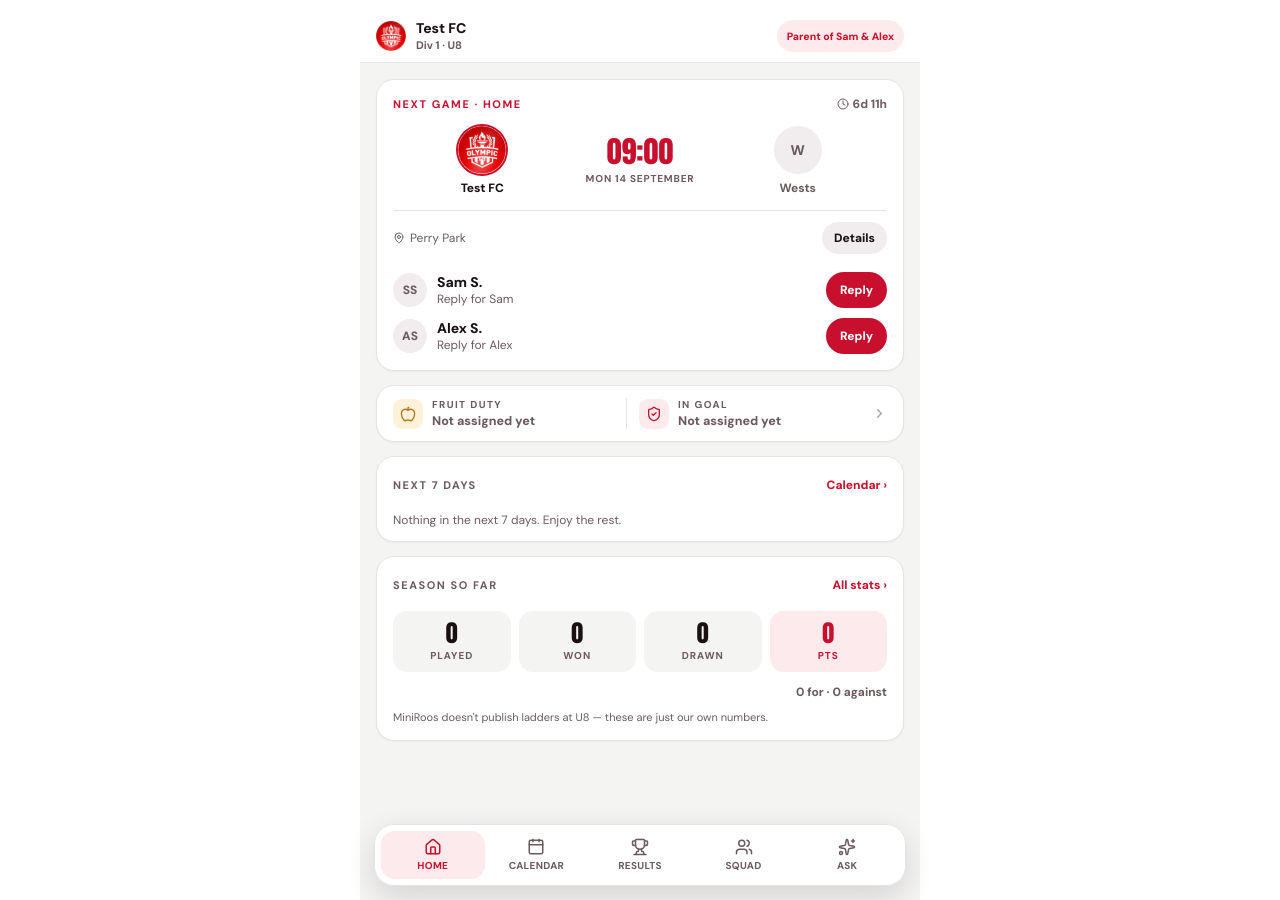
Test case: App — account-mode roles (/api/me) › a coach-parent wearing the parent hat gets the parent experience: no coach mode, In/Out for both of their kids only
This screenshot has width=1280, height=900.
Click the button with aria-label "Viewing as": (840, 36) left=777, top=20, right=904, bottom=52
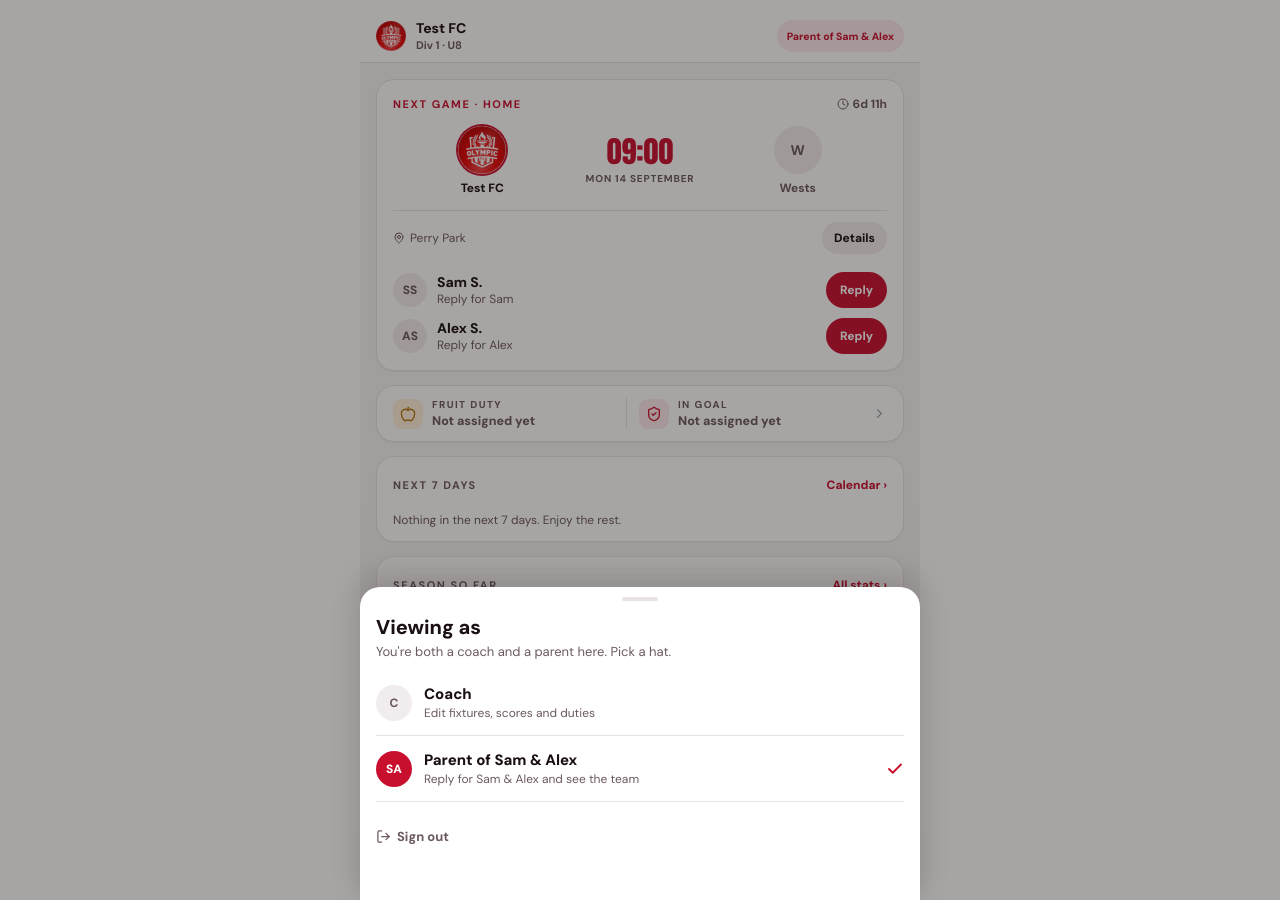
Check: the text with class "disc" reads "SA", box left=386, top=760, right=402, bottom=776
Click the element that starts with "Viewing as": (640, 450) left=0, top=0, right=1279, bottom=899
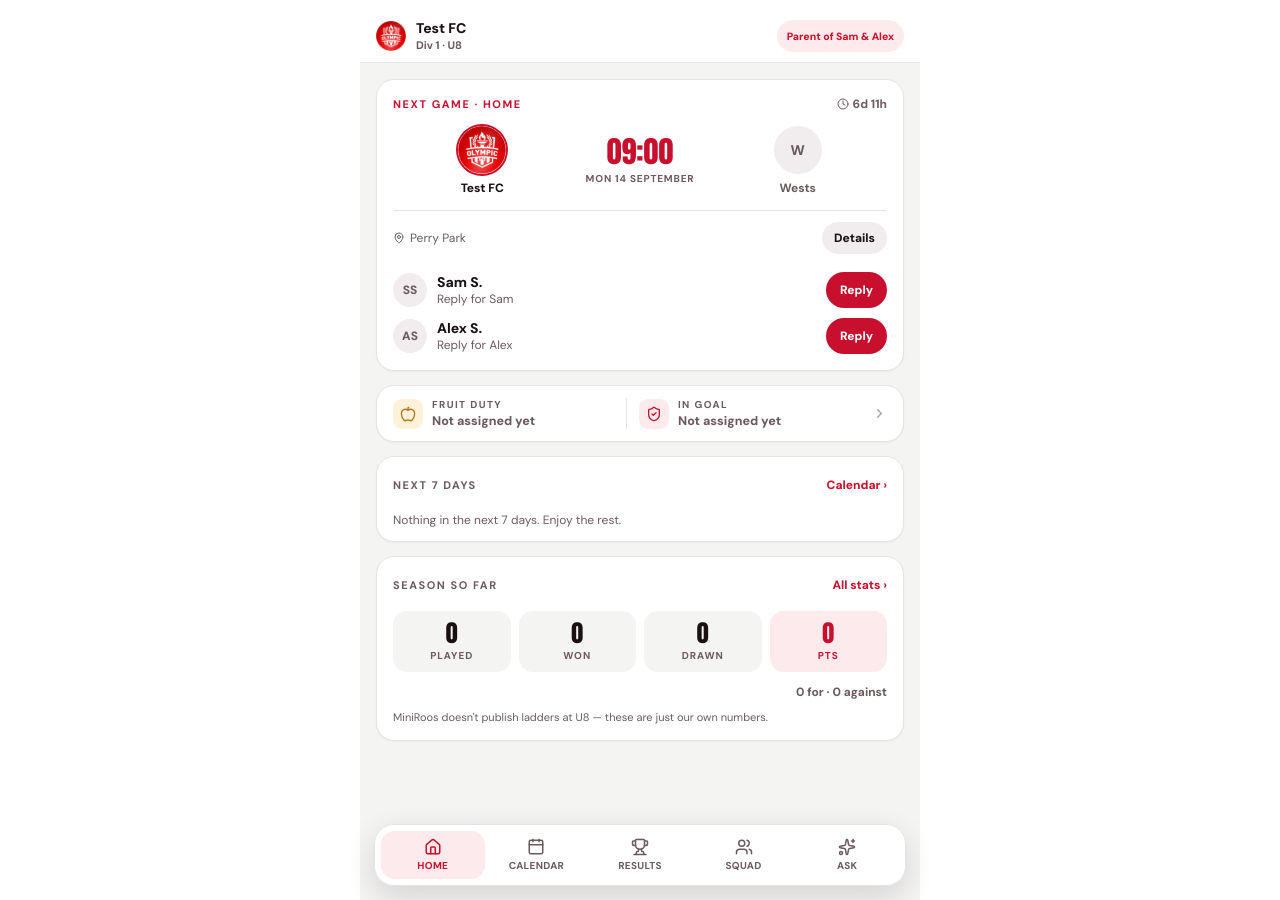
Click the button "Details": (854, 238) left=822, top=222, right=887, bottom=254
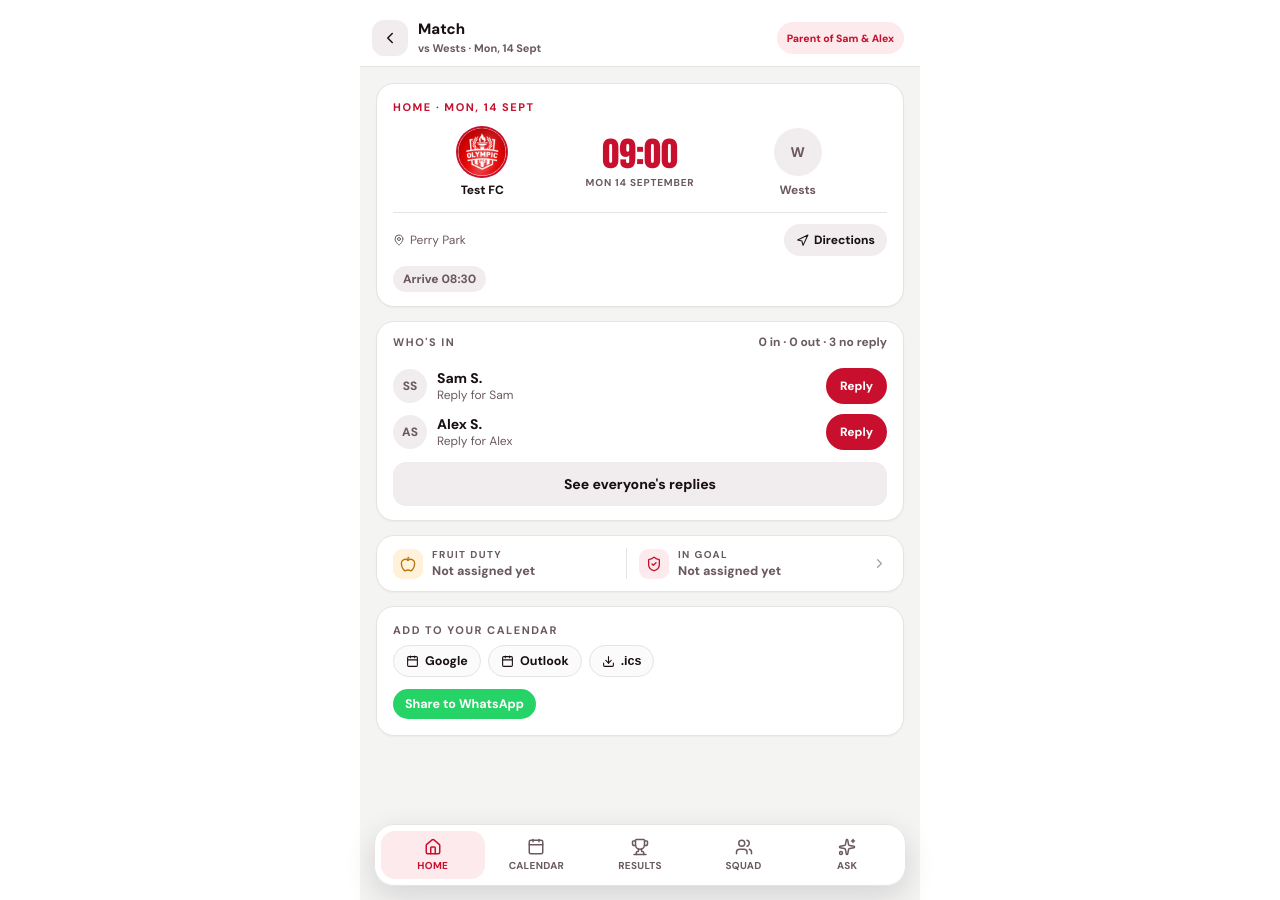
Click the button "See everyone's replies": (640, 484) left=393, top=462, right=887, bottom=506
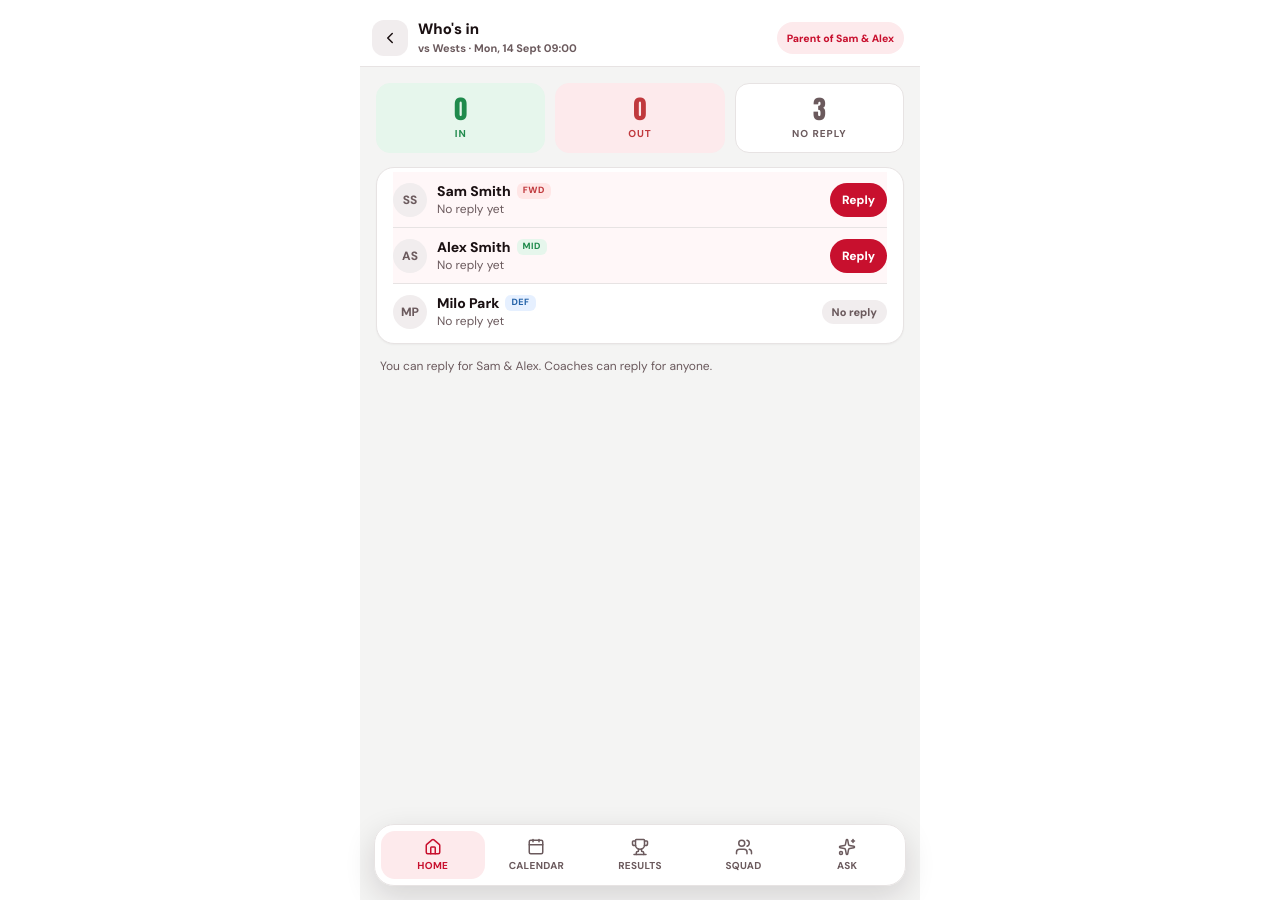
Check: the text with class "hname" reads "Who's in", box left=418, top=19, right=479, bottom=39
Check: the number of elements with class "mine" is 2, box left=393, top=172, right=887, bottom=228; left=393, top=228, right=887, bottom=284
Check: the button "See everyone's replies" is gone
